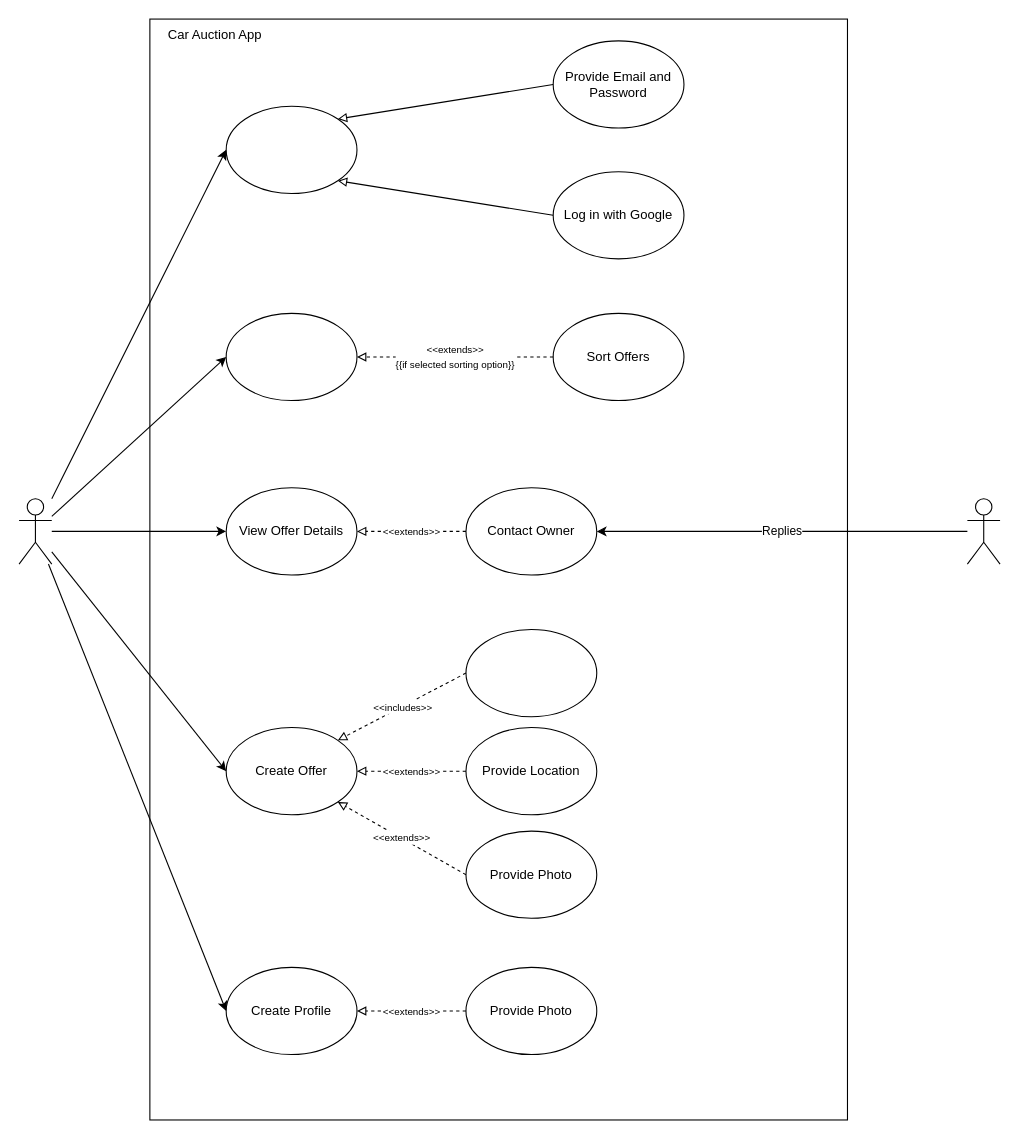
Image size: 1034x1139. Some labels were removed from this diagram. Here are the shapes that lost their labels. From the top down, the box of each, then its label:
(225, 105, 357, 193): Sign In
(225, 312, 357, 401): View Offers
(18, 498, 52, 564): User
(966, 498, 1000, 564): Other User
(465, 628, 597, 717): Provide Basic Info
